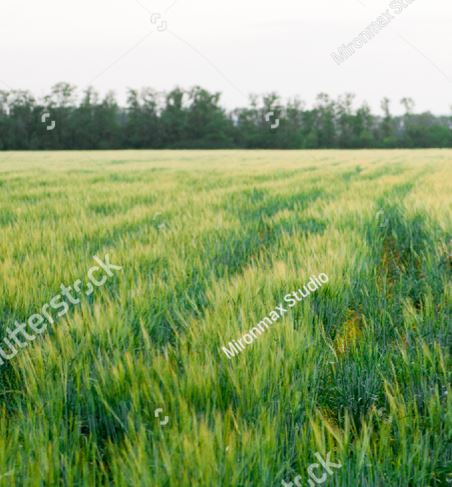Wheat: (335, 210, 444, 477)
